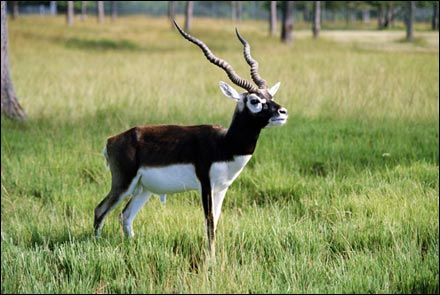Blackbuck: (86, 22, 288, 250)
